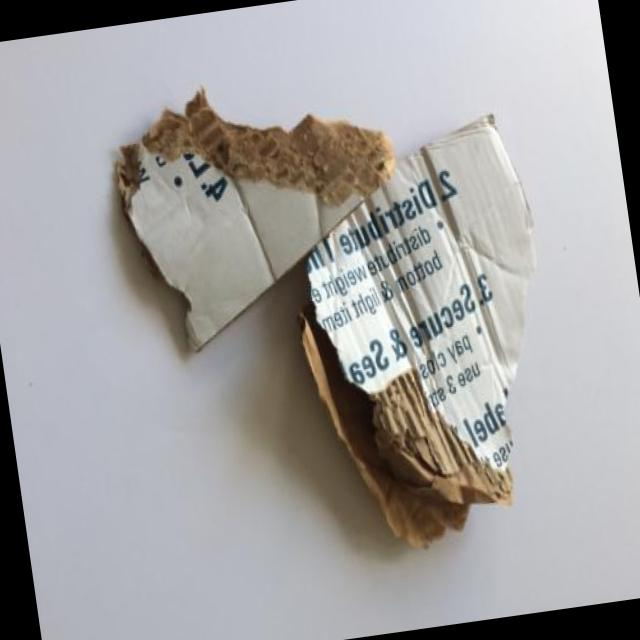cardboard: (302, 118, 534, 545)
paper: (304, 119, 534, 543), (117, 93, 393, 349)
